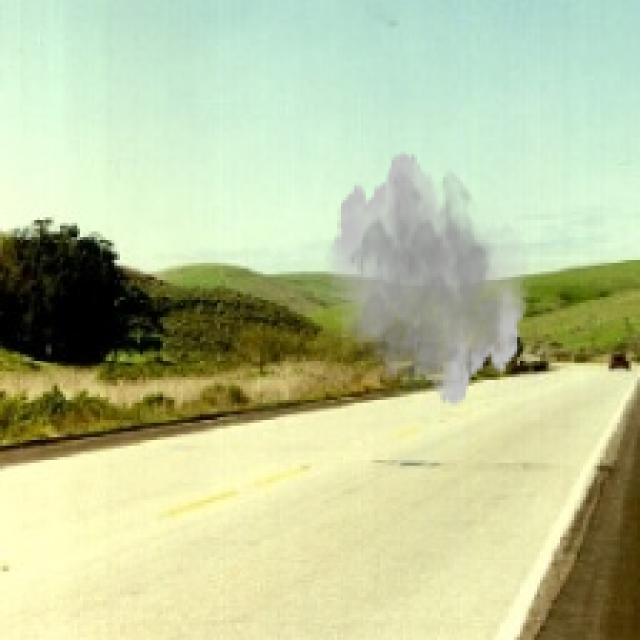Smoke: (326, 148, 532, 408)
